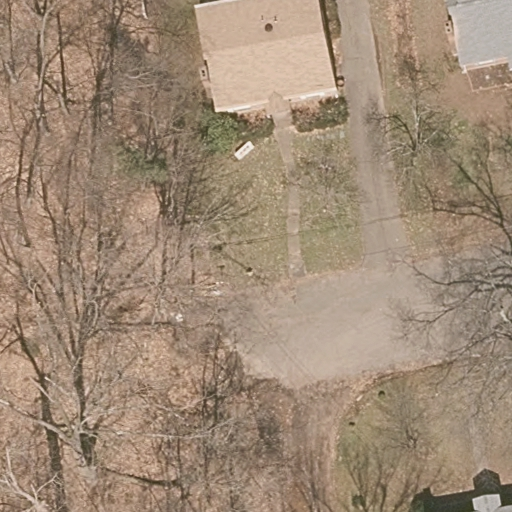DT: (214, 244, 253, 276)
